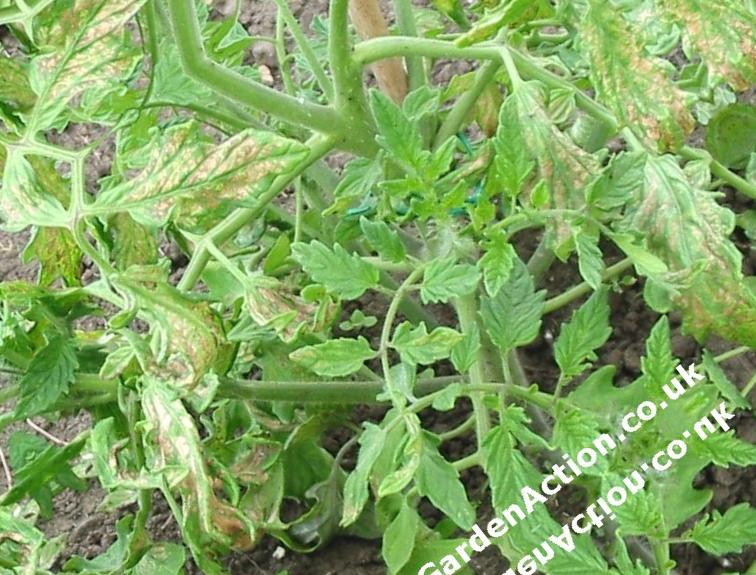Tomato leaf mosaic virus: (450, 240, 569, 362), (453, 95, 569, 214), (300, 412, 417, 529), (530, 283, 644, 391), (347, 74, 448, 189), (0, 321, 99, 432), (390, 425, 489, 535), (285, 210, 387, 316), (287, 309, 380, 401), (565, 140, 659, 226), (611, 312, 700, 401), (385, 302, 471, 387), (411, 243, 489, 320)
